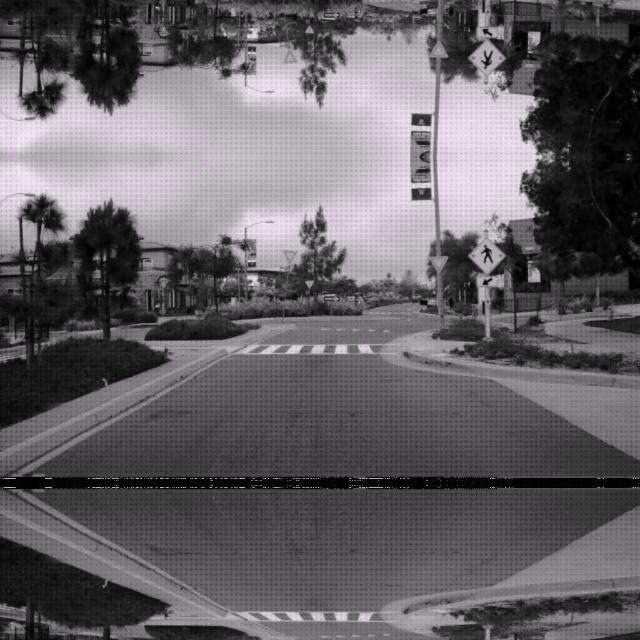pedestrianCrossing: (468, 234, 507, 274), (468, 38, 507, 78)
yield: (428, 254, 448, 272), (428, 40, 448, 58), (282, 248, 296, 262), (282, 50, 296, 64)
